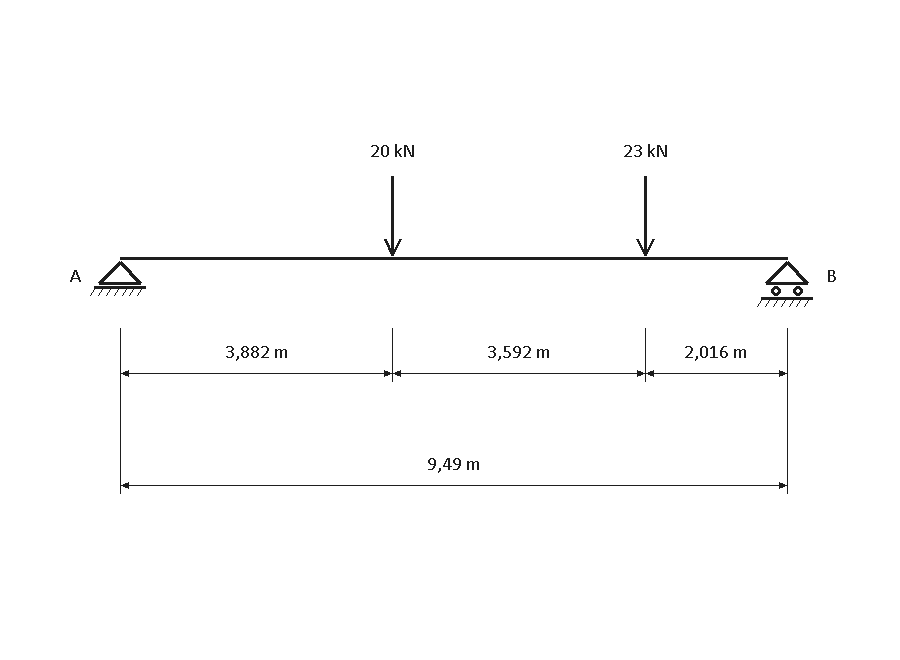pin_support: (90, 261, 146, 296)
point_load: (636, 176, 655, 256), (384, 176, 402, 256)
roller_support: (757, 261, 813, 307)
